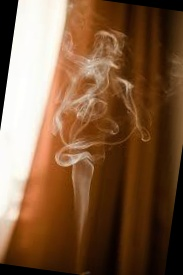smoke: (42, 12, 144, 184)
